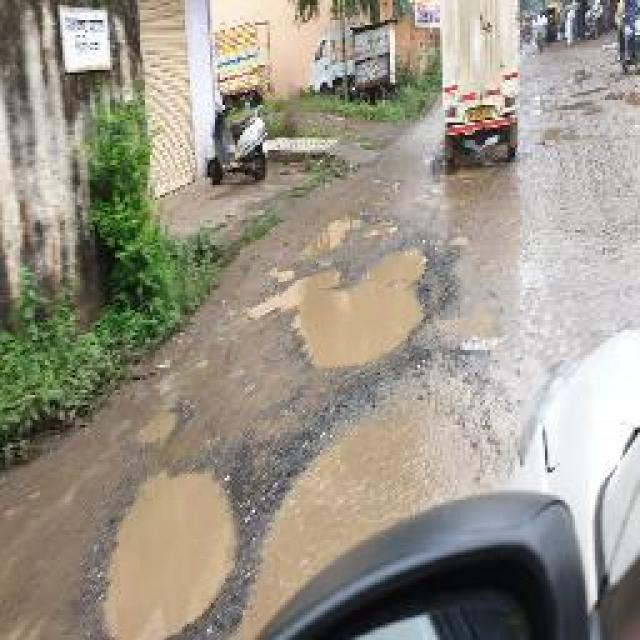puddle: (90, 468, 243, 640), (280, 249, 441, 374)
